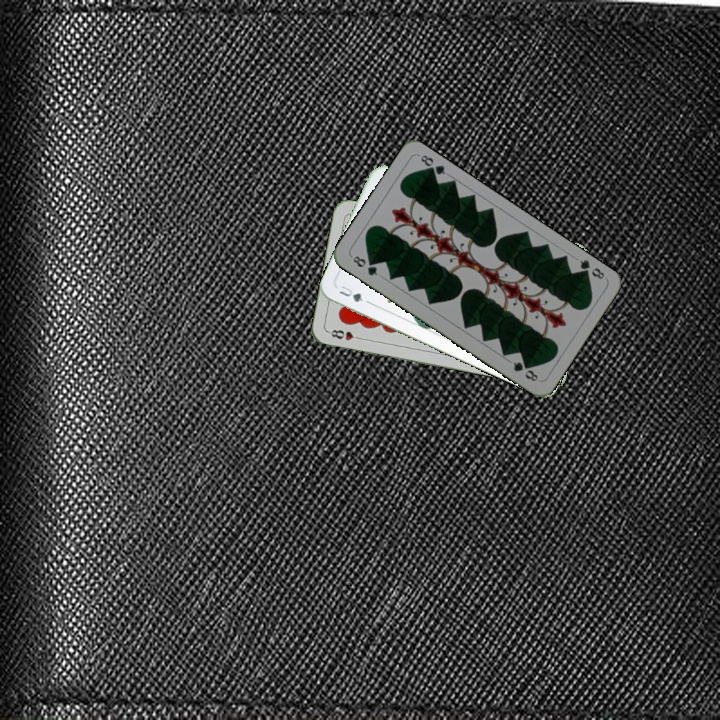G8: (575, 255, 607, 282), (349, 252, 380, 278)
GU: (335, 282, 372, 306)
H8: (325, 326, 365, 343)
